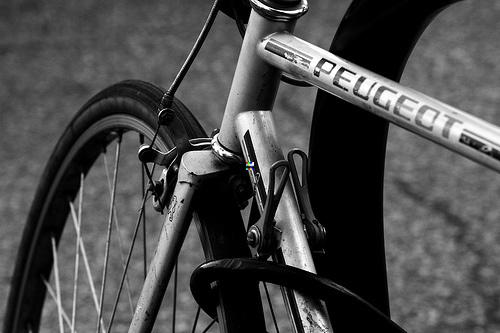car: (3, 1, 498, 332)
